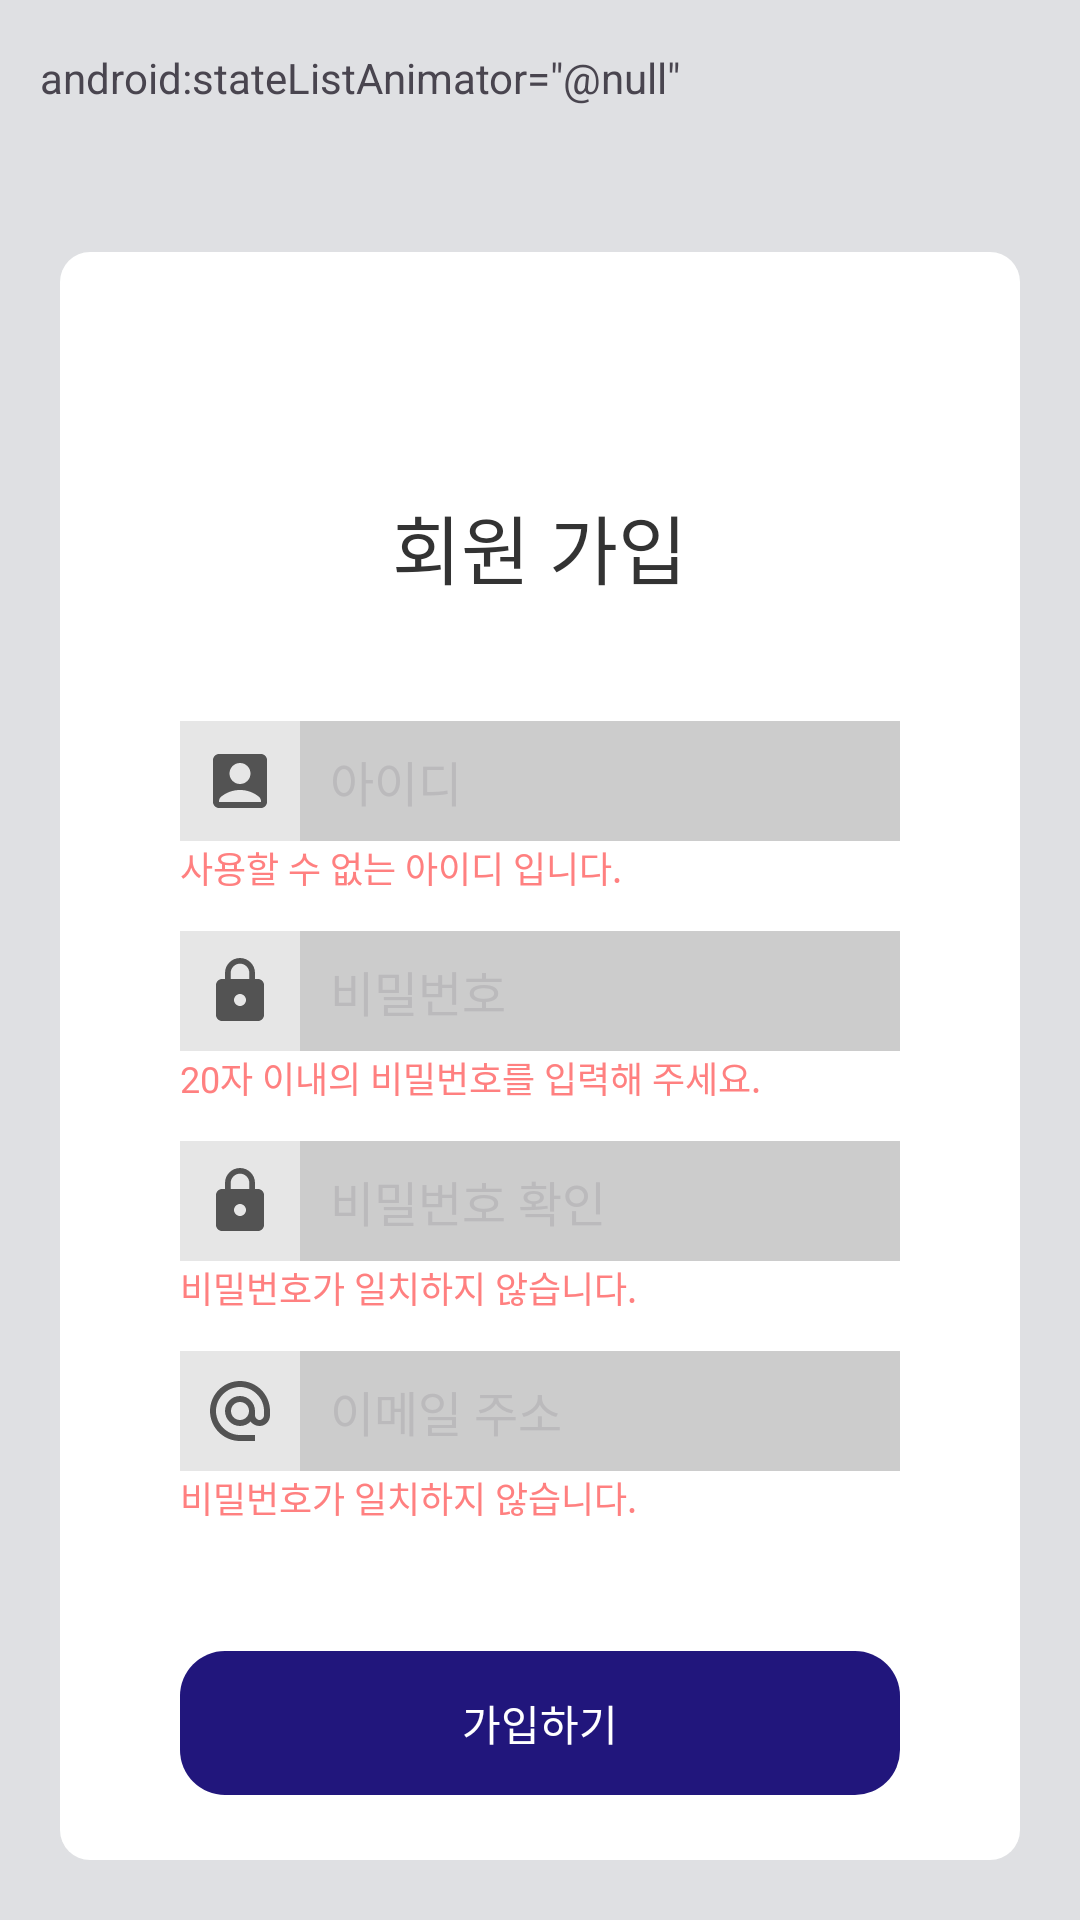

Icons on this 1080 x 1920 Android screen, each with its box as (x1, y1, x2, y2):
account email: (180, 1351, 300, 1471)
account id: (180, 721, 300, 841)
